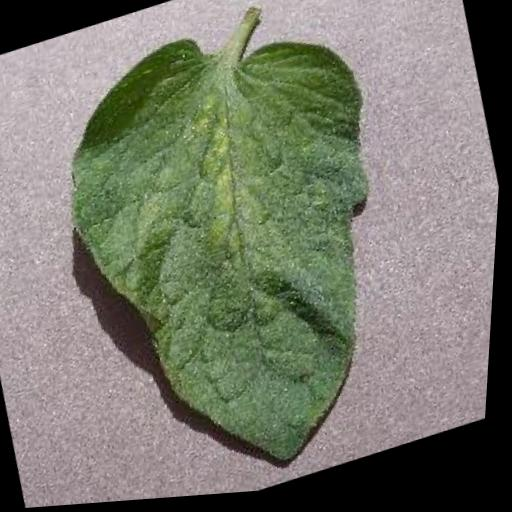Spider Mites: (25, 0, 450, 509)
